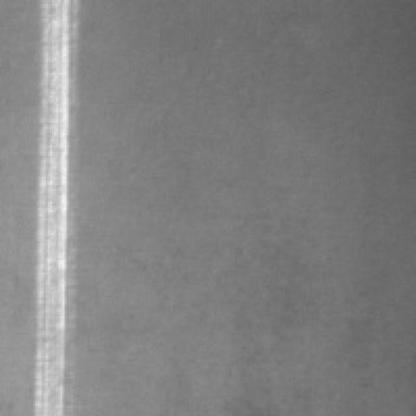scratches: (23, 0, 79, 412)
